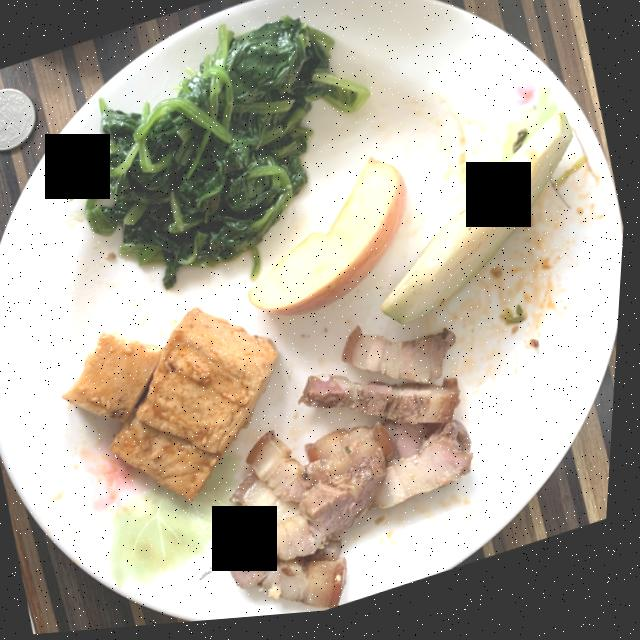apple -sliced-: (251, 164, 409, 321)
coin: (0, 89, 36, 151)
creamy tofu: (67, 311, 281, 504)
grilled pork: (224, 336, 478, 614)
guava -sliced-: (384, 120, 574, 331)
mustard greens: (73, 20, 369, 290)
